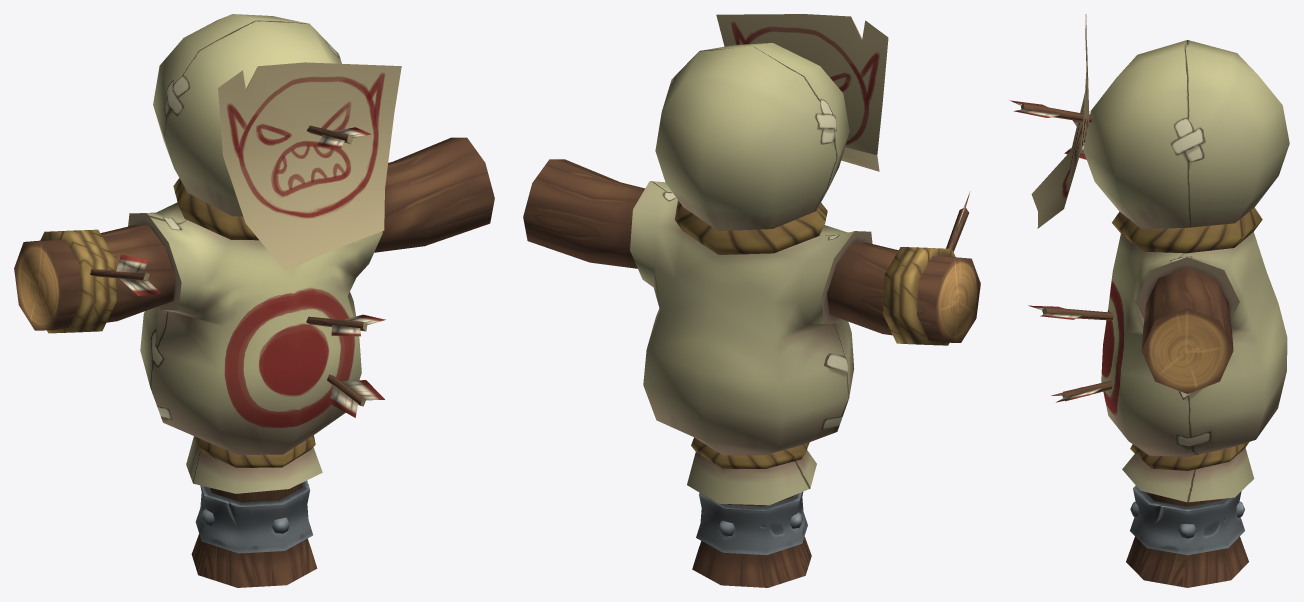
Rendered from dummy.fbx.
The picture shows the model from 3 angles, left to right: view 1: azimuth 30°, elevation 25°; view 2: azimuth 150°, elevation 25°; view 3: azimuth 270°, elevation 25°; orthographic projection. The views are drawn at different scales.
Parts seen in each view (by area): view 1: TrainingDummy, dummyFace, Arrow.002, Arrow.004, Arrow.001, Arrow.003; view 2: TrainingDummy, dummyFace; view 3: TrainingDummy, dummyFace, Arrow.001, Arrow.003, Arrow.002.
Part boxes in pixels (left/top/right/bottom): TrainingDummy: left=14, top=14, right=494, bottom=587; dummyFace: left=218, top=62, right=401, bottom=271; Arrow.002: left=327, top=374, right=384, bottom=417; Arrow.004: left=90, top=254, right=161, bottom=295; Arrow.001: left=306, top=314, right=385, bottom=336; Arrow.003: left=306, top=125, right=371, bottom=148; TrainingDummy: left=523, top=43, right=980, bottom=587; dummyFace: left=716, top=14, right=888, bottom=171; TrainingDummy: left=1083, top=40, right=1289, bottom=587; dummyFace: left=1031, top=14, right=1089, bottom=228; Arrow.001: left=1028, top=305, right=1113, bottom=320; Arrow.003: left=1009, top=100, right=1092, bottom=122; Arrow.002: left=1051, top=381, right=1112, bottom=402.
Size of the model in its own units: 1.65 by 0.9644 by 1.96.
2 materials, 2 textured.
